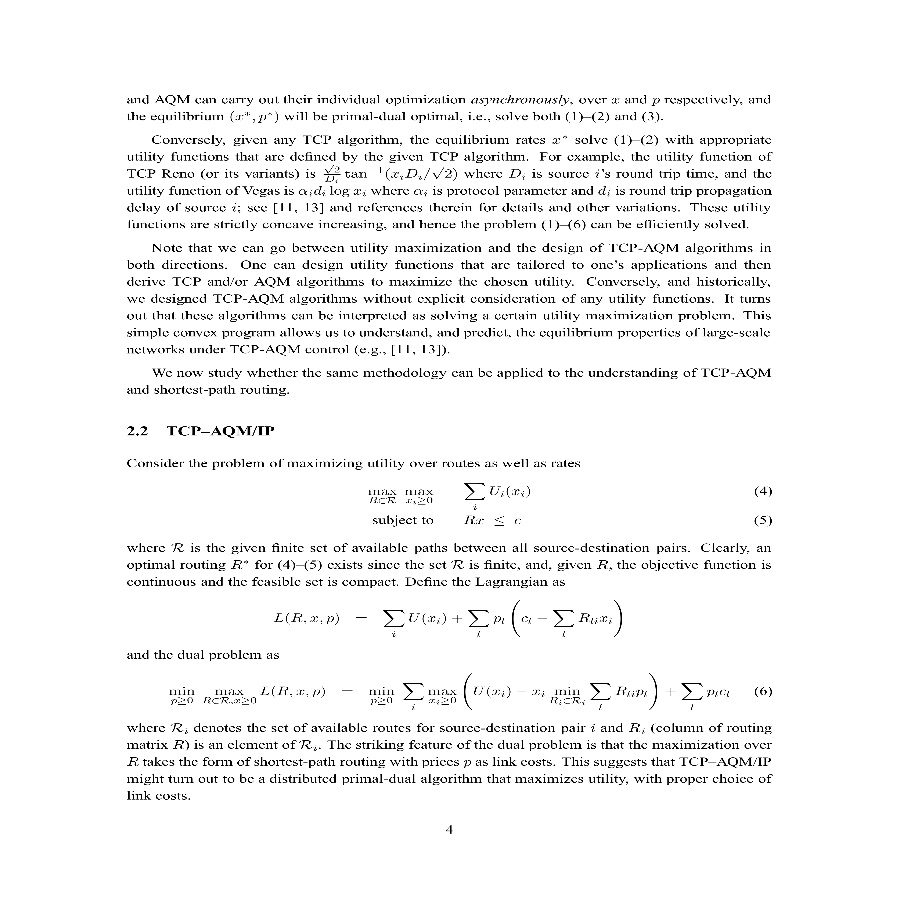eq: (164, 669, 734, 714), (267, 595, 631, 643), (364, 478, 545, 528)
